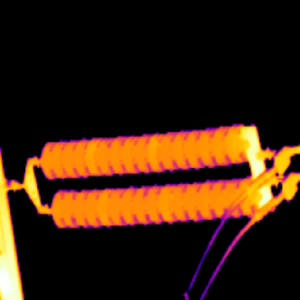insulator: (37, 123, 255, 225)
